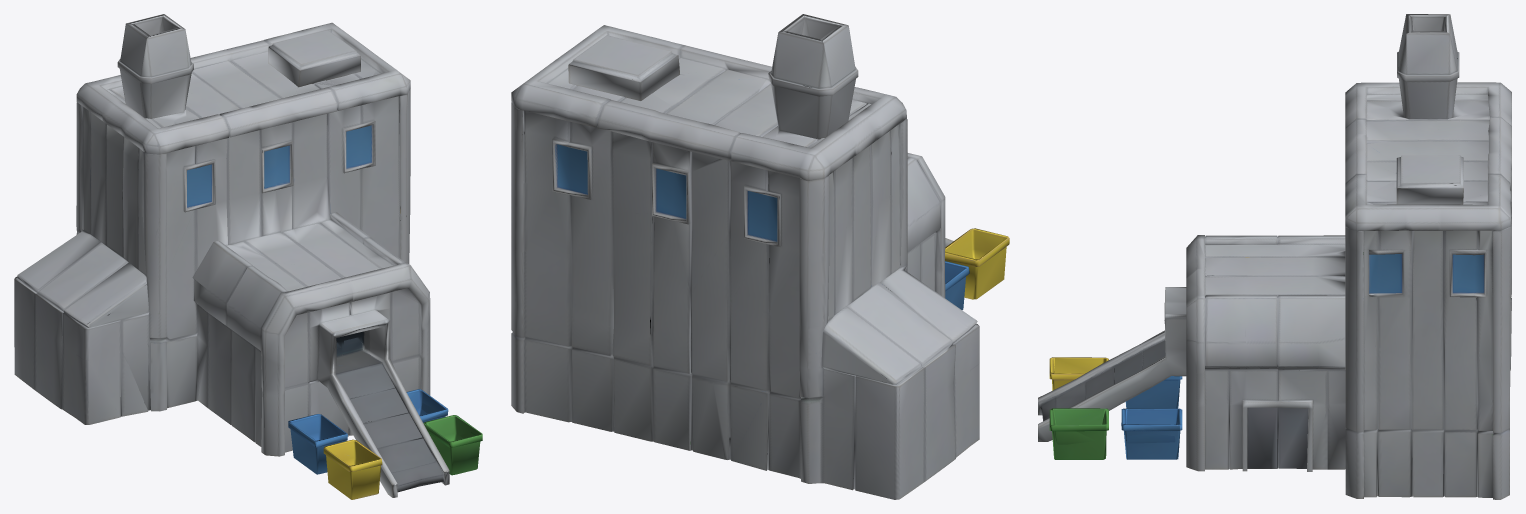
The model's file is 27-recycling-center.glb.
3 views of the same model, side by side, from view 1: azimuth 30°, elevation 25°; view 2: azimuth 150°, elevation 25°; view 3: azimuth 270°, elevation 25° (orthographic). The views are drawn at different scales.
Parts seen in each view (by area): view 1: geometry_0; view 2: geometry_0; view 3: geometry_0.
Part boxes in pixels (left/top/right/bottom): geometry_0: left=14, top=14, right=482, bottom=499; geometry_0: left=511, top=14, right=1009, bottom=499; geometry_0: left=1038, top=14, right=1511, bottom=499.
Bounding box in the file's own units: 0.7959 × 0.8057 × 0.9517.
1 material, 1 textured.
